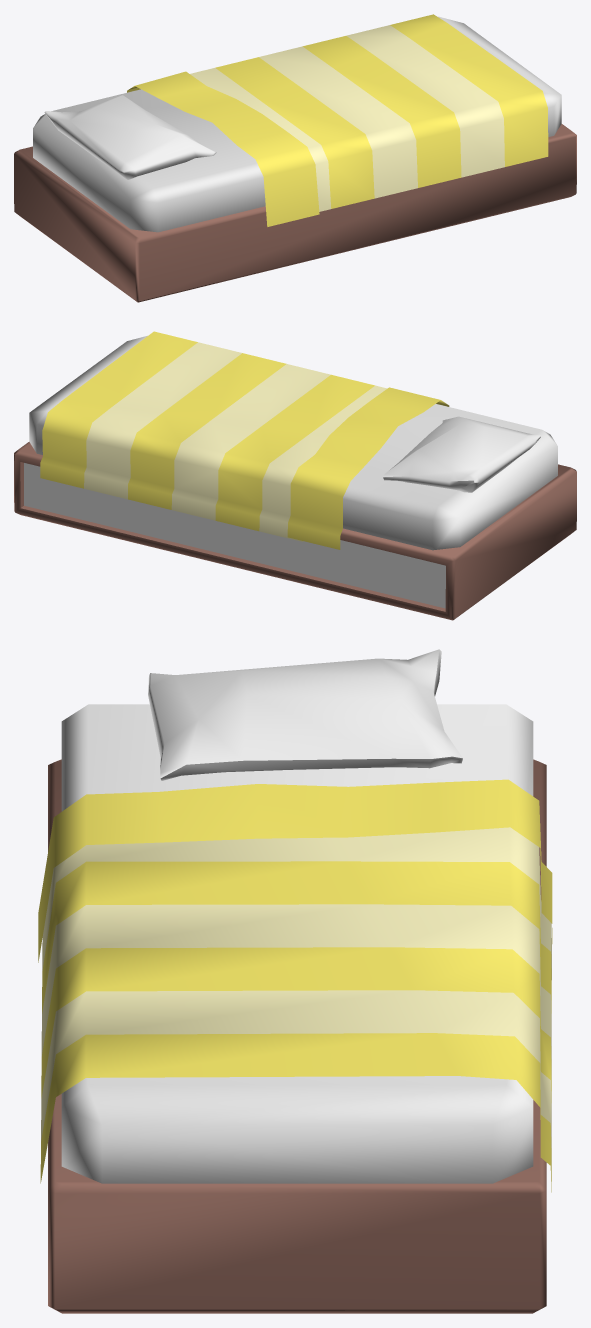
The model's file is CAMA.obj.
3 renders of one model, top to bottom at view 1: azimuth 30°, elevation 25°; view 2: azimuth 150°, elevation 25°; view 3: azimuth 270°, elevation 25°, orthographic. The views are drawn at different scales.
Parts seen in each view (by area): view 1: bed_001; view 2: bed_001; view 3: bed_001.
Boxes of the visible parts, left/top/right/bottom form: bed_001: left=14, top=14, right=576, bottom=302; bed_001: left=14, top=331, right=576, bottom=620; bed_001: left=38, top=649, right=552, bottom=1313.
Size of the model in its own units: 2.21 by 0.6228 by 1.12.
Materials: 1 (1 with a texture image).
